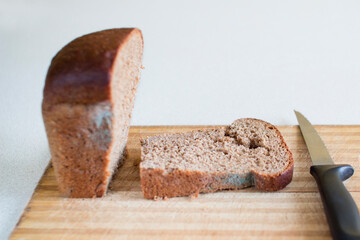mold_bread: (87, 103, 111, 151), (208, 170, 254, 191)
